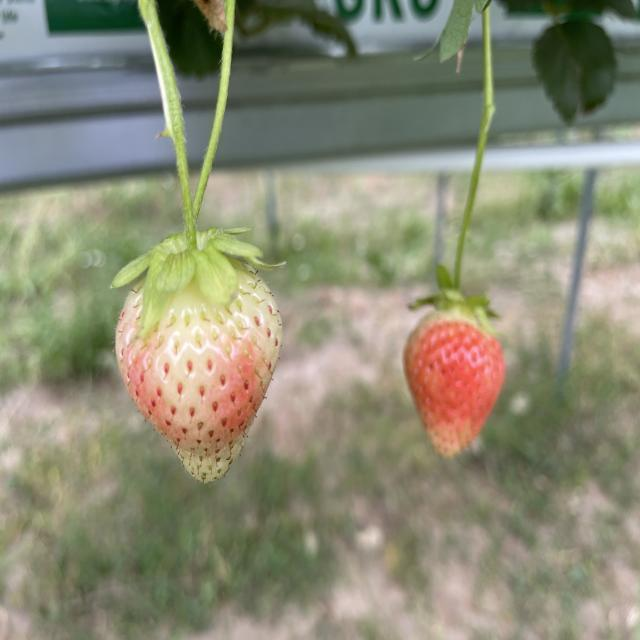stem: (112, 0, 263, 335), (415, 0, 493, 332)
strawberryR: (116, 272, 280, 480), (404, 312, 503, 455)
